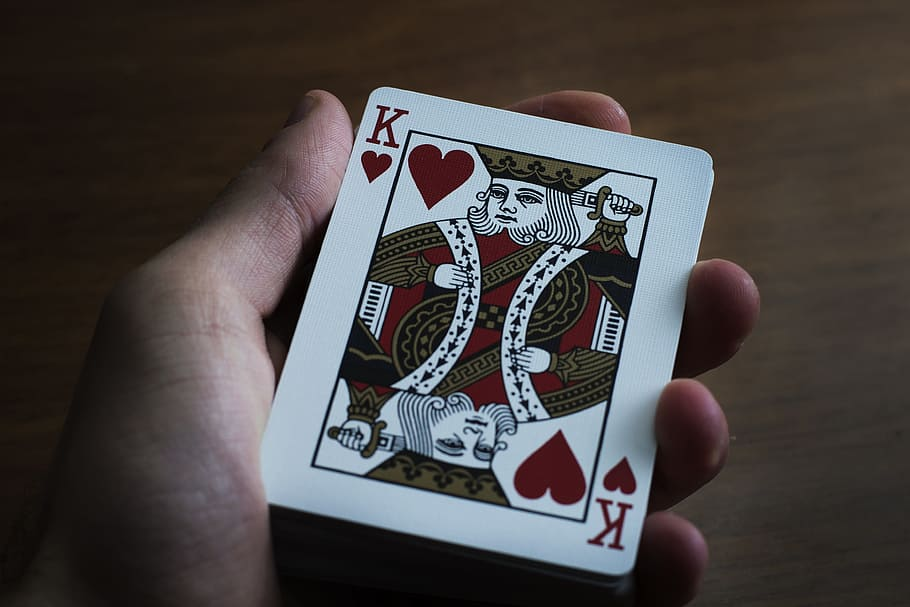king of hearts: (259, 88, 712, 577)
